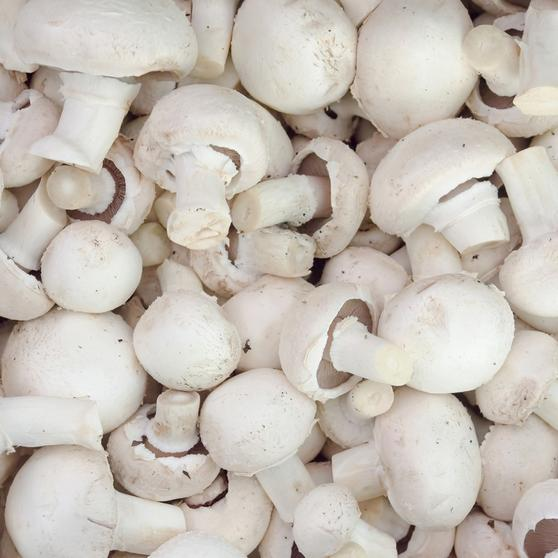champignon: (131, 85, 259, 246), (366, 122, 514, 258), (270, 285, 419, 397), (128, 290, 249, 389)
